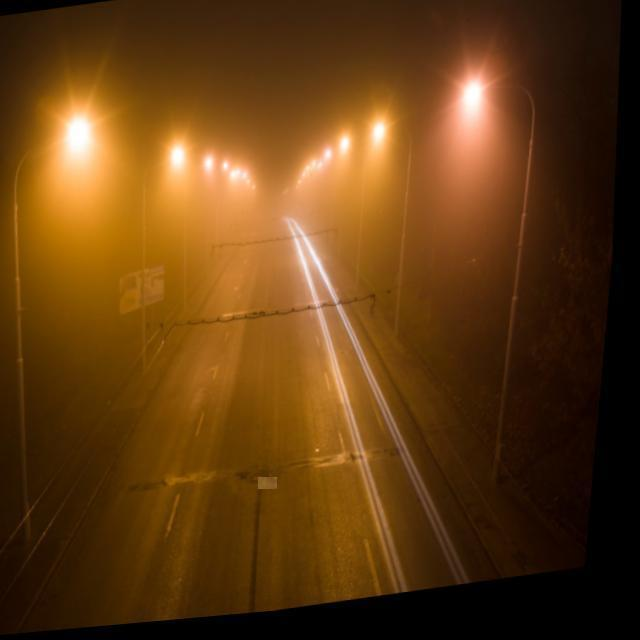Pothole: (258, 477, 277, 489)
